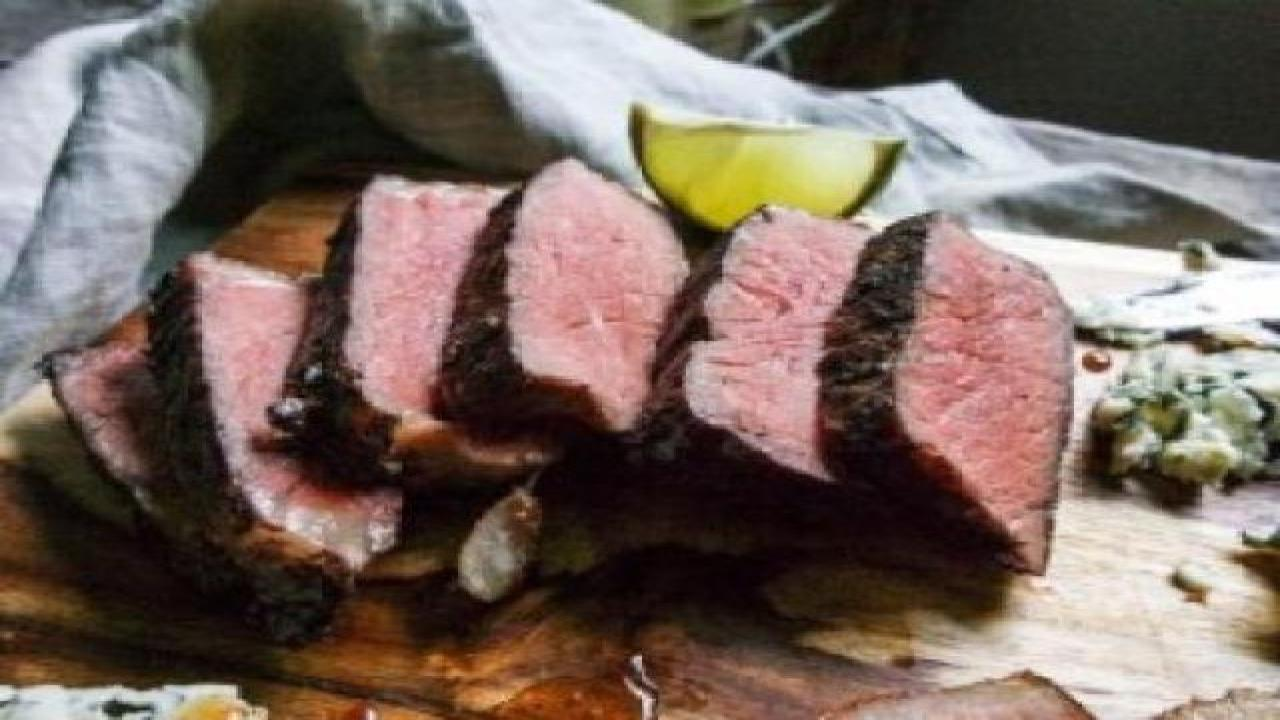Carne: (859, 180, 1114, 576), (160, 264, 422, 621), (671, 177, 868, 492), (477, 148, 678, 436), (320, 148, 491, 440)
